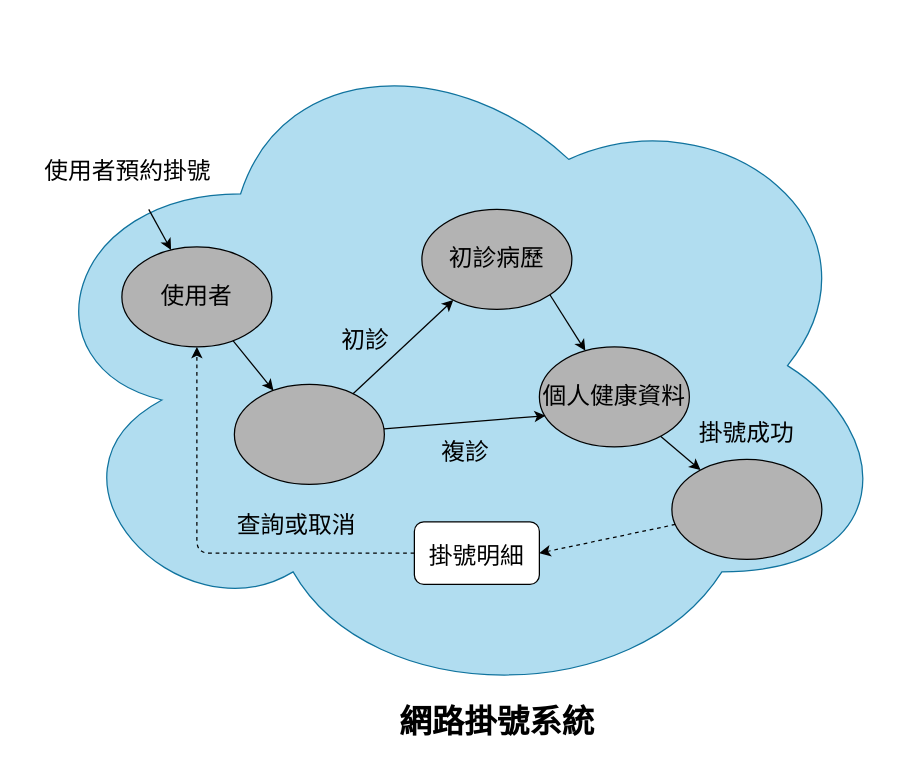
Image size: 919x769. Some labels were removed from this diagram. Here are the shapes that lost their labels. From the top down, the centre of each, then its label:
At point 308,433: "個人資料".
At point 746,508: "院方".
